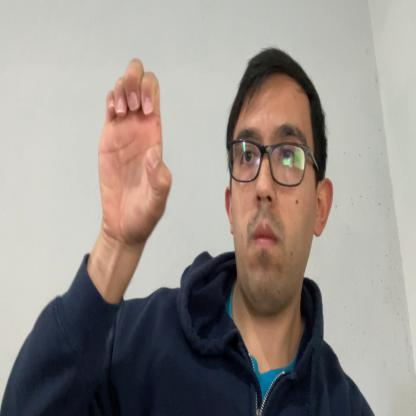E: (98, 59, 172, 235)
